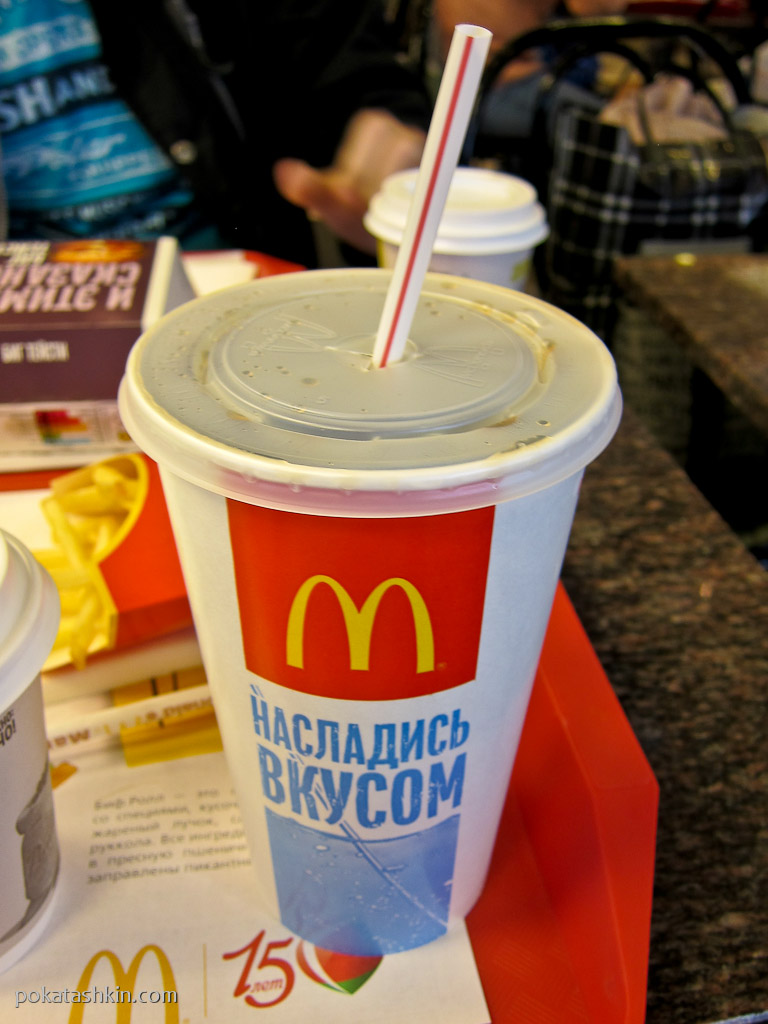mcdonalds: (269, 562, 452, 681)
